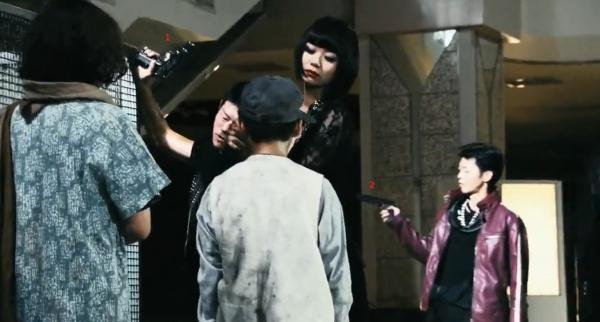Gun: (136, 40, 197, 77), (358, 190, 397, 226)
